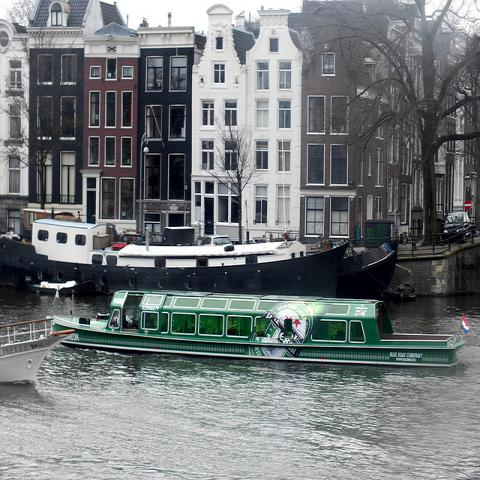car: (442, 212, 473, 245), (202, 236, 233, 246)
